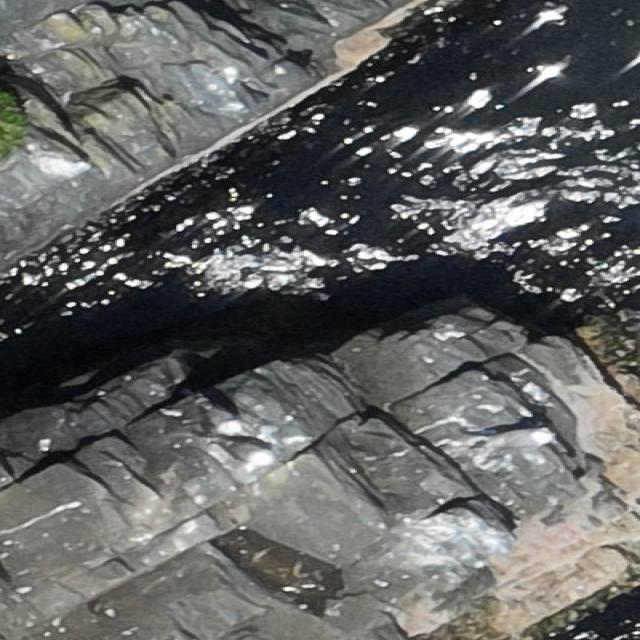umineko: (480, 427, 558, 453), (198, 396, 241, 437), (218, 443, 274, 465)
